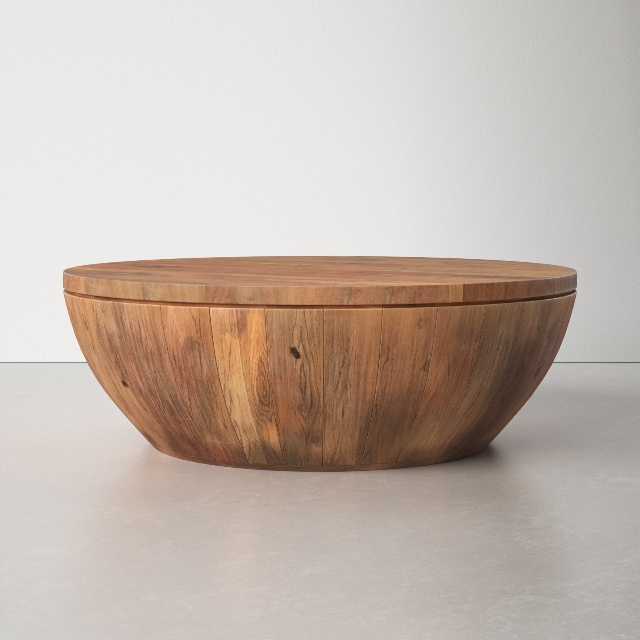obstacle: (64, 256, 576, 470)
